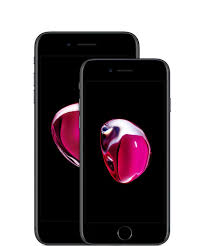iphone7: (77, 57, 171, 245)
